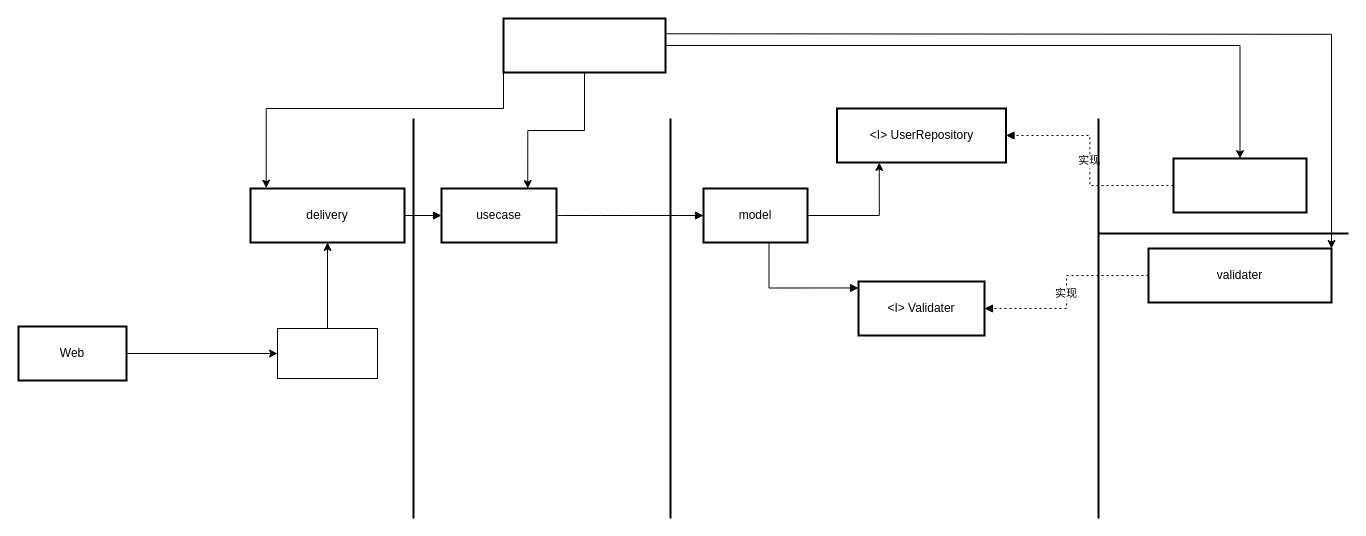
Some shapes in this 1366 by 536 pixel diagram are drawn without their labels. Here are the shapes that lost their labels. From the top down, the box of each, then its label:
(502, 17, 666, 73): cmd/monolith
(1172, 157, 1307, 213): repository
(276, 328, 378, 378): REST
